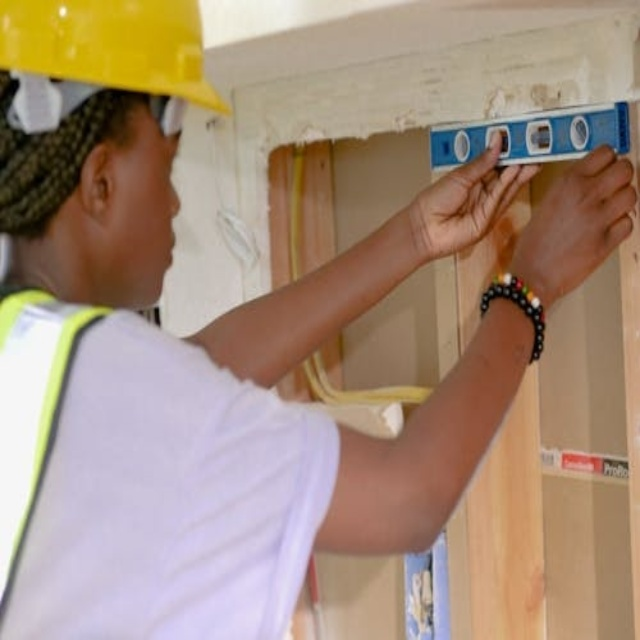Sin_gafas: (116, 142, 186, 196)
Sin_guantes: (512, 141, 637, 305), (409, 127, 538, 265)
Sin_mascara: (124, 225, 180, 297)
